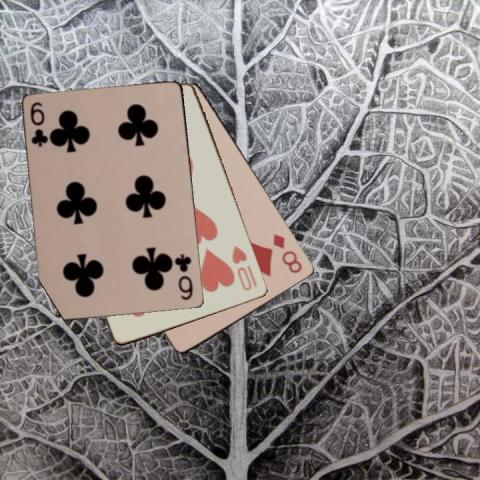10h: (230, 242, 260, 292)
6c: (27, 99, 50, 149), (173, 252, 195, 302)
8d: (270, 231, 304, 275)
